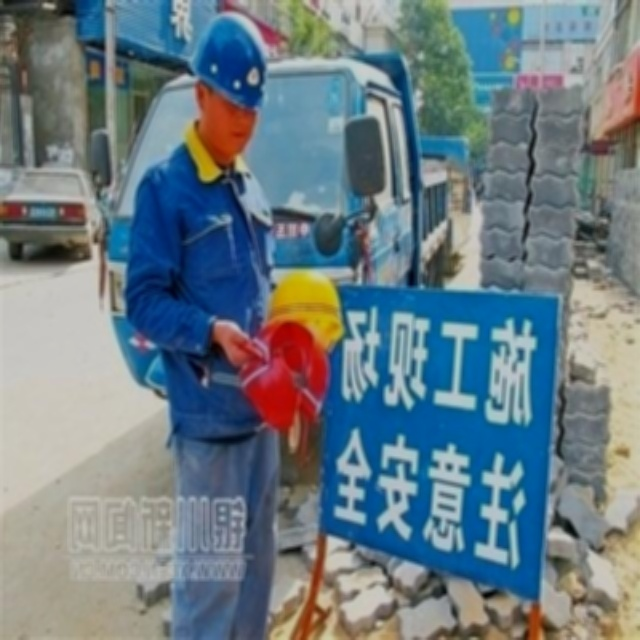Con_Casco: (191, 10, 268, 152)
